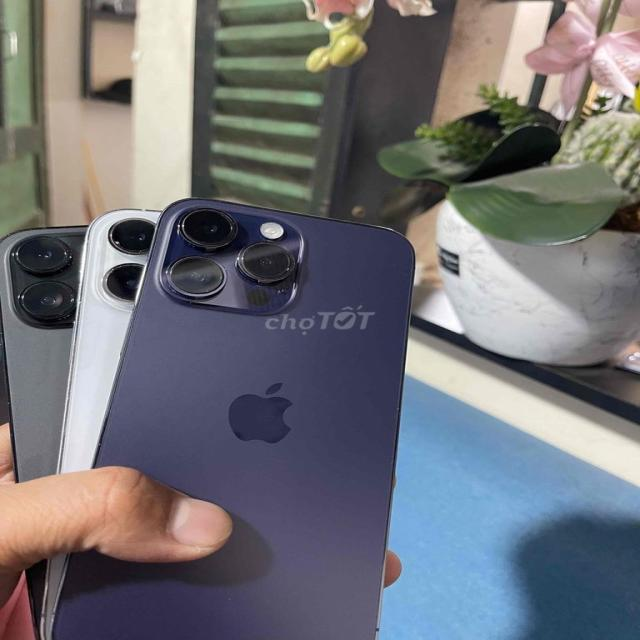gen_14: (52, 190, 416, 640)
